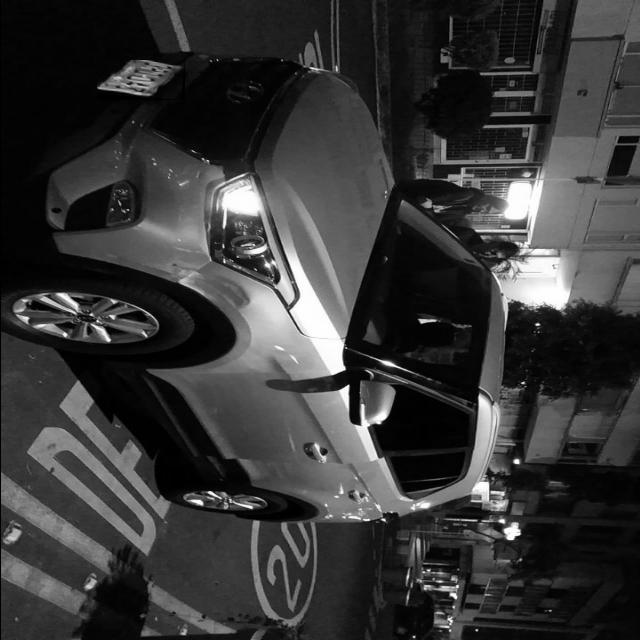plate: (96, 60, 183, 98)
